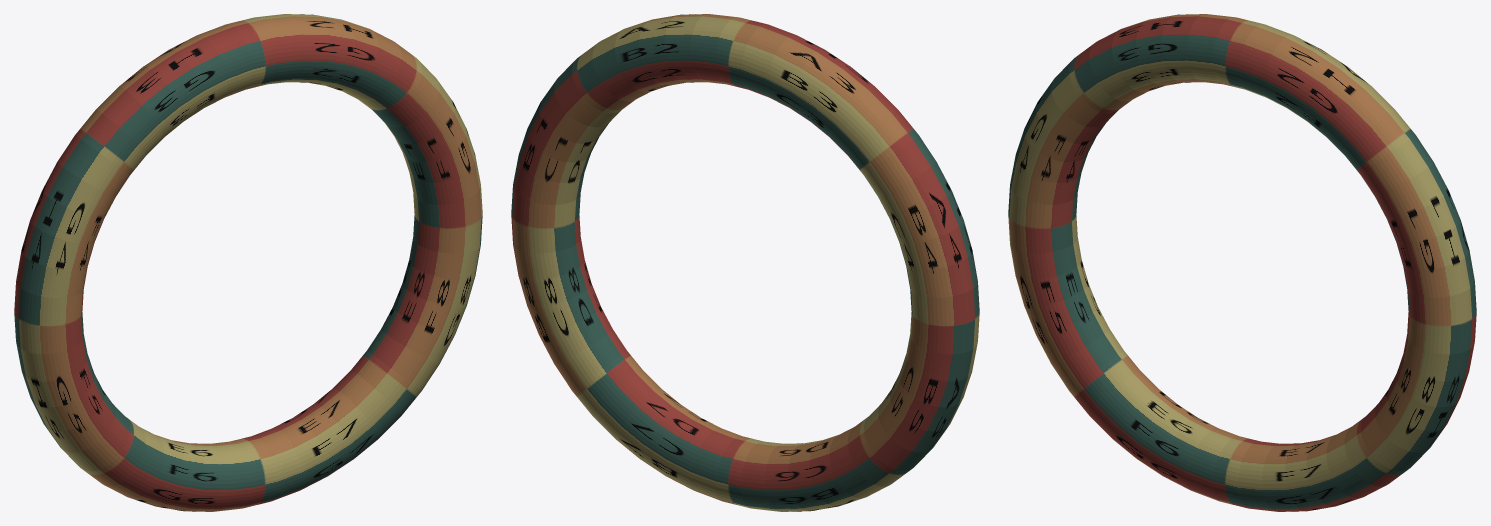
Rendered from texture_torus_R27_r8.glb.
3 views of the same model, side by side, from view 1: azimuth 30°, elevation 25°; view 2: azimuth 150°, elevation 25°; view 3: azimuth 330°, elevation 25° (orthographic).
Parts seen in each view (by area): view 1: world; view 2: world; view 3: world.
Part boxes in pixels (<box>): world: <box>14,14,482,511</box>; world: <box>511,14,979,511</box>; world: <box>1008,14,1476,511</box>.
Size of the model in its own units: 32.13 by 32.07 by 4.13.
Materials: 1 (1 with a texture image).
